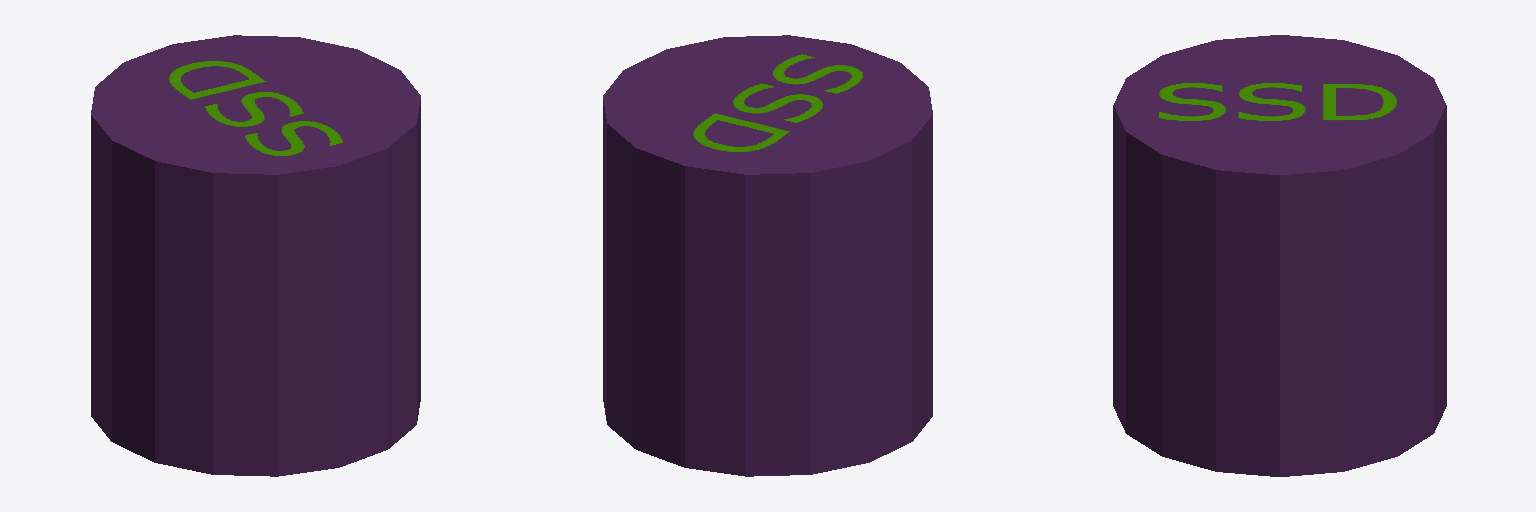
3 views of the same model, side by side, from view 1: azimuth 30°, elevation 25°; view 2: azimuth 150°, elevation 25°; view 3: azimuth 270°, elevation 25° (orthographic).
Visible parts, largest first — view 1: Cylinder31; view 2: Cylinder31; view 3: Cylinder31.
Boxes of the visible parts, box(x1,y1,x2,y2) form: Cylinder31: box(91, 35, 420, 476); Cylinder31: box(603, 35, 932, 476); Cylinder31: box(1113, 35, 1446, 476).
Size of the model in its own units: 2 by 2 by 2.
1 materials, 1 textured.